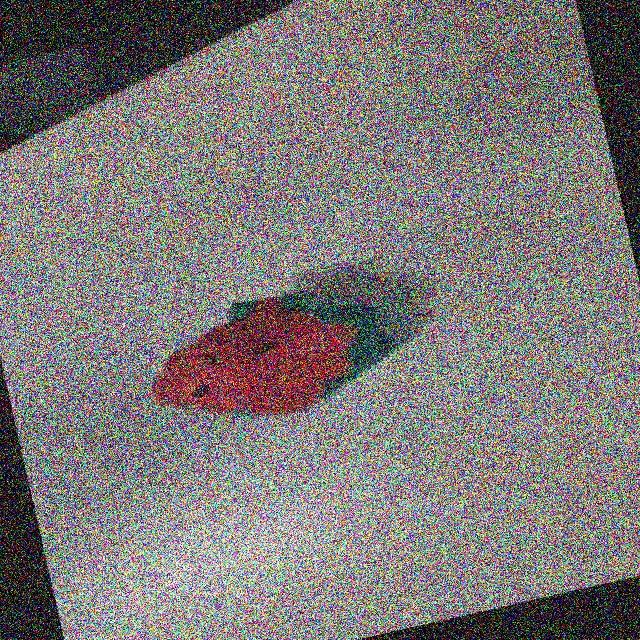House: (132, 265, 424, 445)
